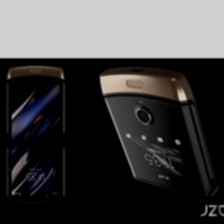phone: (95, 61, 221, 201), (2, 60, 68, 206)
